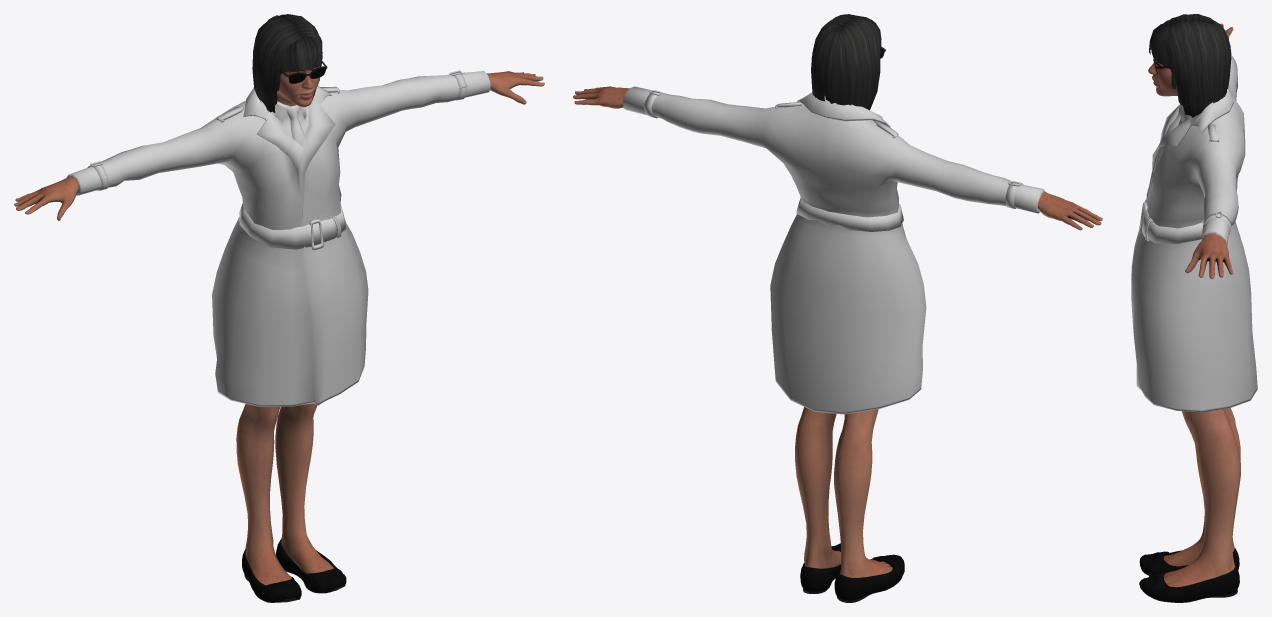
Rendered from female_agent_model.obj.
3 views of the same model, side by side, from view 1: azimuth 30°, elevation 25°; view 2: azimuth 150°, elevation 25°; view 3: azimuth 270°, elevation 25° (orthographic).
Visible parts, largest first — view 1: Tops, Body, Hair, Shoes; view 2: Tops, Body, Hair, Shoes; view 3: Tops, Body, Hair, Shoes.
Part boxes in pixels (x1,y1,x2,y2): Tops: (66,70,490,406); Body: (14,66,544,585); Hair: (252,14,322,112); Shoes: (242,538,346,602); Tops: (623,86,1044,414); Body: (573,86,1102,577); Hair: (811,14,881,110); Shoes: (800,543,904,602); Tops: (1131,51,1257,412); Body: (1148,23,1240,587); Hair: (1149,14,1231,117); Shoes: (1139,548,1239,602).
Size of the model in its own units: 170 by 174 by 35.33.
